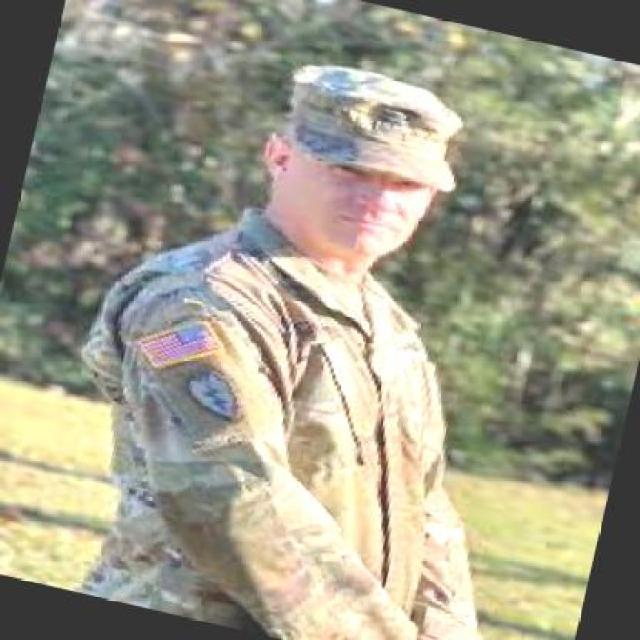MIL_Pax: (36, 19, 610, 638)
